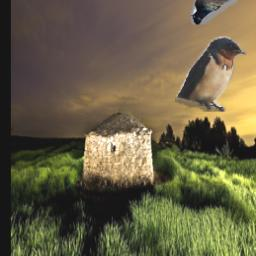Swallow: (175, 37, 246, 113), (192, 0, 238, 24)
